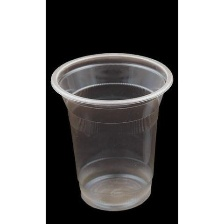glass: (47, 49, 178, 218)
